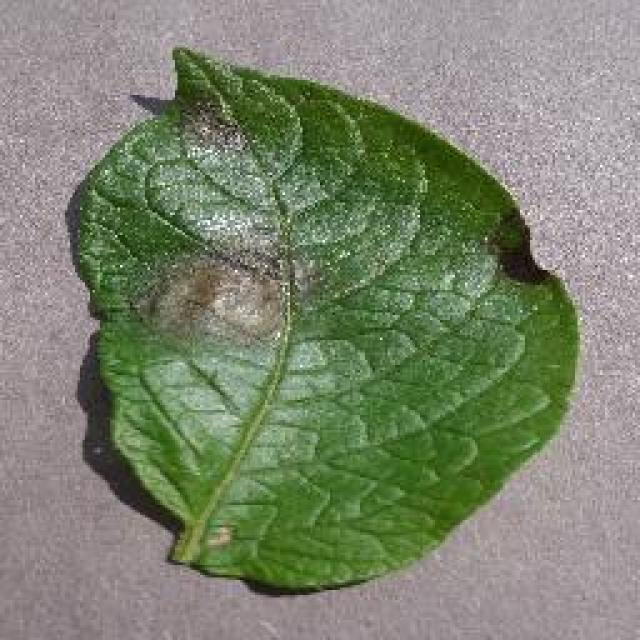late_blight: (65, 42, 585, 598)
